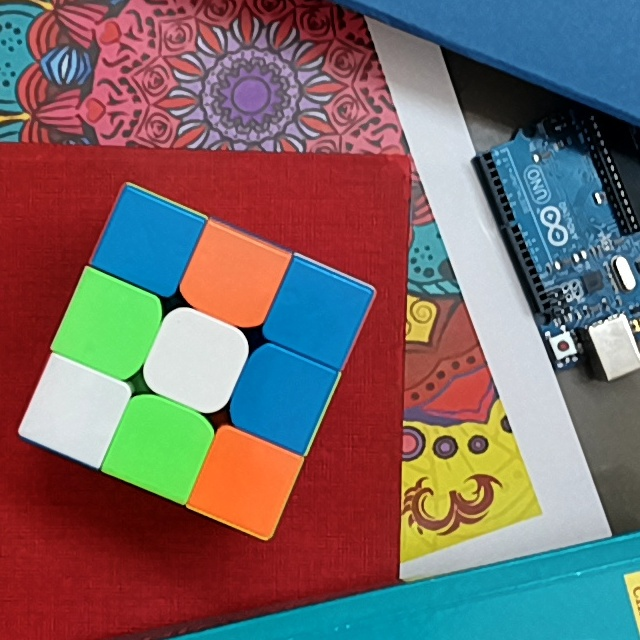tile: (125, 412, 194, 477), (163, 329, 227, 394), (77, 293, 142, 357), (212, 449, 279, 511), (200, 246, 264, 310), (250, 364, 312, 430), (118, 210, 181, 274), (44, 379, 107, 442), (287, 280, 347, 346)
